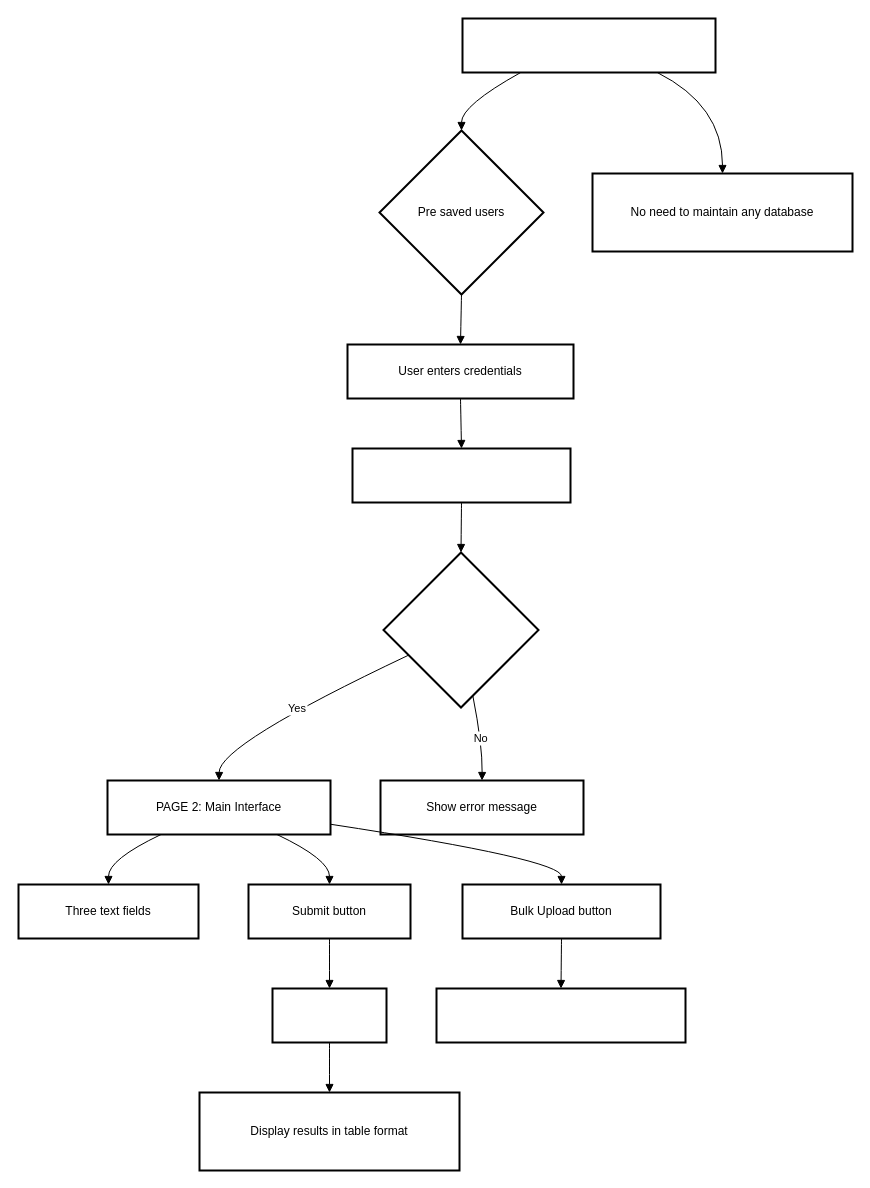
Some shapes in this 870 by 1188 pixel diagram are drawn without their labels. Here are the shapes that lost their labels. From the top down, the centre of each, then its label:
point (588, 45): Design a simple Login page
point (461, 475): Submit button clicked
point (460, 629): Login success?
point (329, 1015): Call API
point (560, 1015): Open existing upload page
